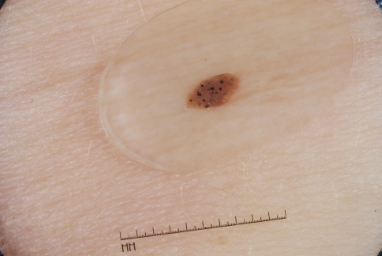seborrheic keratosis: (173, 63, 253, 126)
